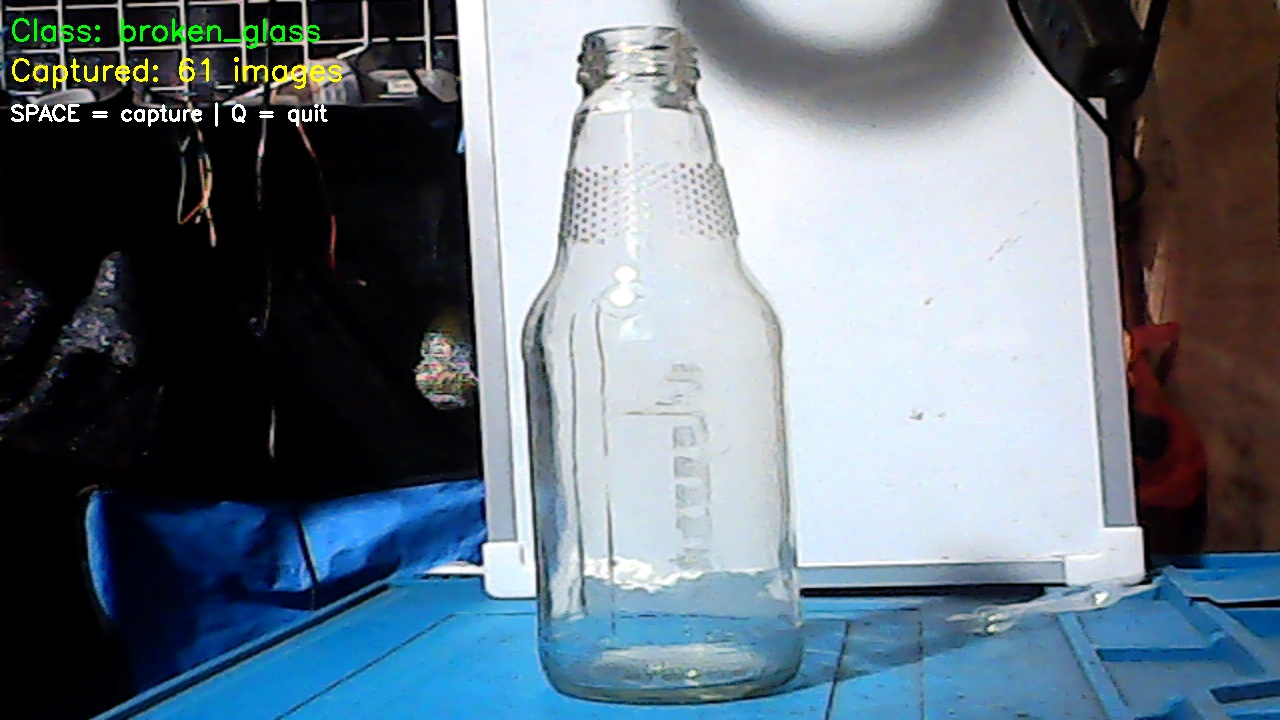broken_glass: (505, 17, 810, 698)
